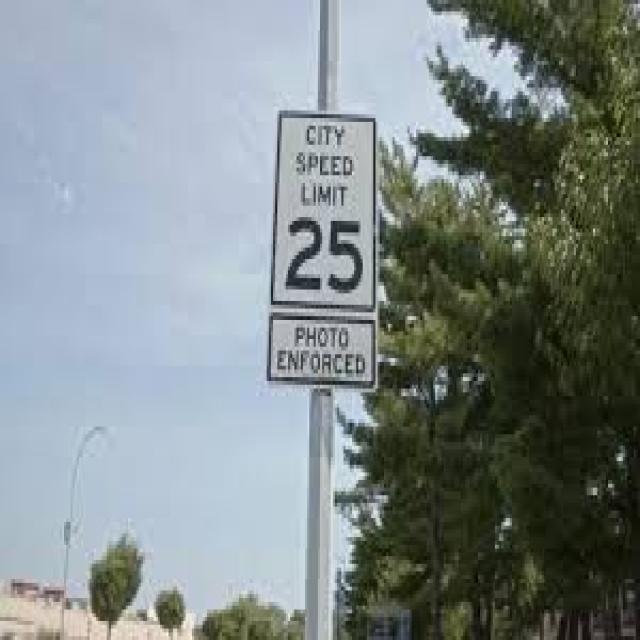speedLimit25: (271, 86, 380, 307)
